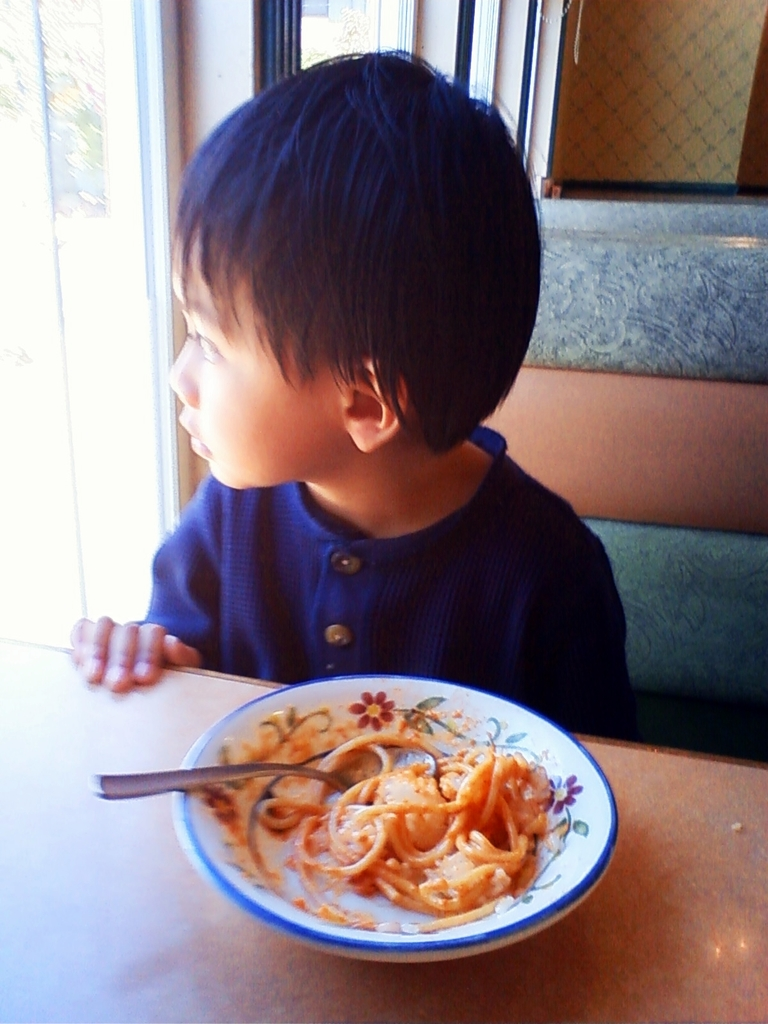pasta: (242, 718, 559, 942)
